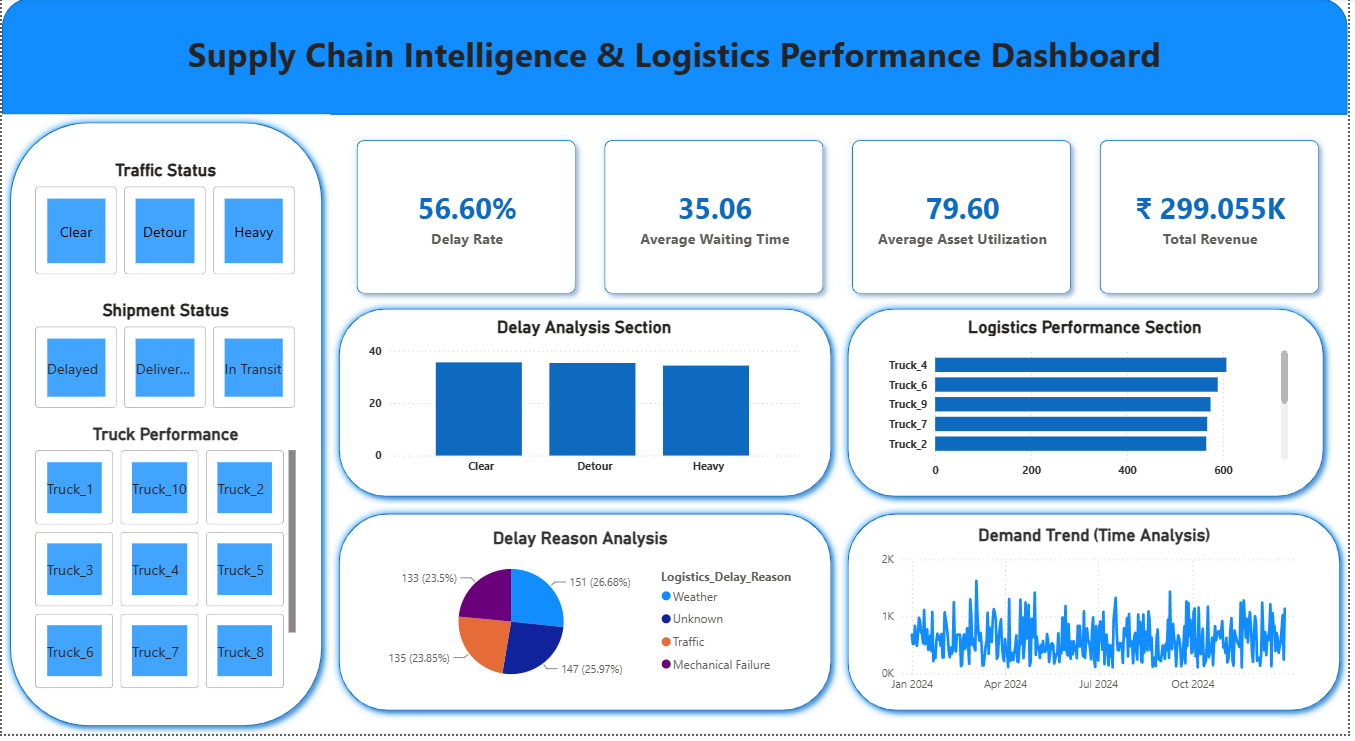

The page's visual inventory and layout, read from the dashboard file:
{"tool":"powerbi","page":{"name":"Page 1","canvas":[1500,820],"ordinal":0},"visuals":[{"type":"cardVisual","fields":{"Data":["cleaned_logistics_data.Delay Rate","cleaned_logistics_data.Average Waiting Time","cleaned_logistics_data.Average Asset Utilization","cleaned_logistics_data.Total Revenue"]},"box":[365.7,130,1133.5,229.6],"z":0},{"type":"shape","box":[0,0,1499.2,130],"z":1000},{"type":"textbox","box":[182.8,32.5,1133.5,65],"z":2000},{"type":"shape","box":[932.4,337.2,548.5,227.5],"z":4000},{"type":"shape","box":[365.7,337.2,566.8,227.5],"z":4001},{"type":"shape","box":[932.4,564.7,566.8,237.7],"z":4002},{"type":"shape","box":[365.7,564.7,566.8,237.7],"z":4003},{"type":"barChart","title":"Logistics Performance Section","fields":{"Category":["cleaned_logistics_data.Asset_ID"],"Y":["Sum(cleaned_logistics_data.User_Purchase_Frequency)"]},"box":[975.1,355.5,463.2,188.9],"z":4004},{"type":"clusteredColumnChart","title":"Delay Analysis Section","fields":{"Category":["cleaned_logistics_data.Traffic_Status"],"Y":["cleaned_logistics_data.Average Waiting Time"]},"box":[404.3,355.5,489.6,184.9],"z":4005},{"type":"pieChart","title":"Delay Reason Analysis","fields":{"Category":["cleaned_logistics_data.Logistics_Delay_Reason"],"Y":["Sum(cleaned_logistics_data.Logistics_Delay)"]},"box":[396.1,591.2,497.7,184.9],"z":4006},{"type":"lineChart","title":"Demand Trend (Time Analysis)","fields":{"Category":["cleaned_logistics_data.Timestamp.Variation.Date Hierarchy.Year","cleaned_logistics_data.Timestamp.Variation.Date Hierarchy.Quarter","cleaned_logistics_data.Timestamp.Variation.Date Hierarchy.Month","cleaned_logistics_data.Timestamp.Variation.Date Hierarchy.Day"],"Y":["Sum(cleaned_logistics_data.Demand_Forecast)"]},"box":[975.1,587.1,483.5,195],"z":4007},{"type":"shape","box":[0,130,365.7,690.7],"z":4008},{"type":"advancedSlicerVisual","title":"Traffic Status","fields":{"Values":["cleaned_logistics_data.Traffic_Status"]},"box":[32.5,180.8,300.7,132],"z":4009},{"type":"advancedSlicerVisual","title":"Shipment Status","fields":{"Values":["cleaned_logistics_data.Shipment_Status"]},"box":[32.5,337.2,300.7,125.9],"z":4010},{"type":"advancedSlicerVisual","title":"Truck Performance","fields":{"Values":["cleaned_logistics_data.Asset_ID"]},"box":[32.5,475.4,300.7,300.7],"z":4011}]}

Visuals, with their boxes in screenshot pixels (x1, y1, x2, y2), scaled from the page's 1500x820 canvas onto the 1355x741 screenshot:
cardVisual - cleaned_logistics_data.Delay Rate x cleaned_logistics_data.Average Waiting Time: crop(330, 117, 1354, 325)
shape: crop(0, 0, 1354, 117)
textbox: crop(165, 29, 1189, 88)
shape: crop(842, 305, 1338, 510)
shape: crop(330, 305, 842, 510)
shape: crop(842, 510, 1354, 725)
shape: crop(330, 510, 842, 725)
"Logistics Performance Section" barChart: crop(881, 321, 1299, 492)
"Delay Analysis Section" clusteredColumnChart: crop(365, 321, 807, 488)
"Delay Reason Analysis" pieChart: crop(358, 534, 807, 701)
"Demand Trend (Time Analysis)" lineChart: crop(881, 531, 1318, 707)
shape: crop(0, 117, 330, 740)
"Traffic Status" advancedSlicerVisual: crop(29, 163, 301, 283)
"Shipment Status" advancedSlicerVisual: crop(29, 305, 301, 418)
"Truck Performance" advancedSlicerVisual: crop(29, 430, 301, 701)
